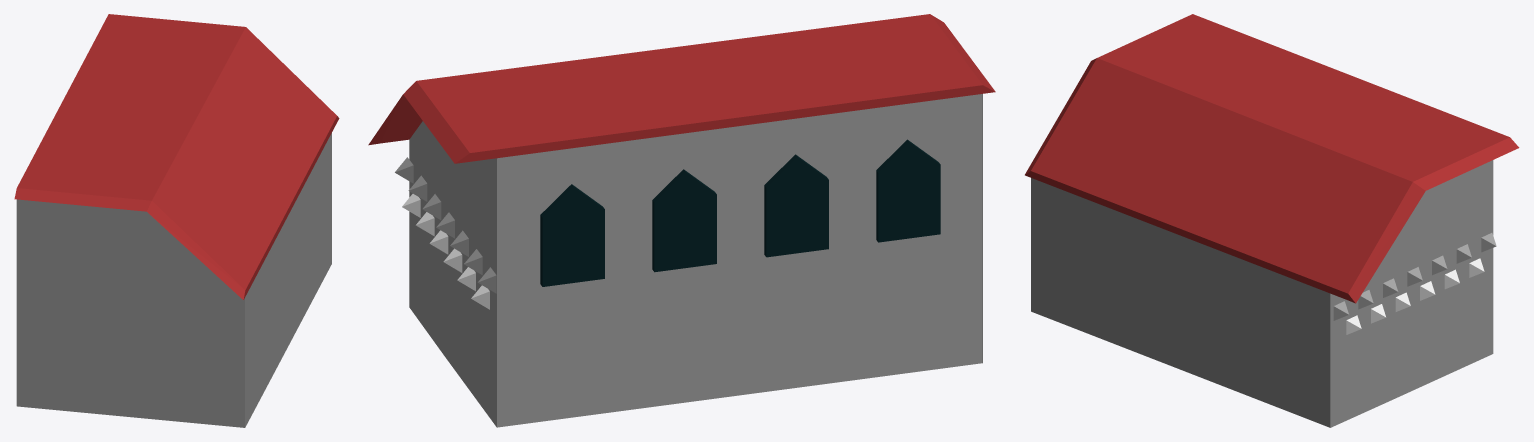
The model's file is HOUSE 1.fbx.
The picture shows the model from 3 angles, left to right: view 1: azimuth 30°, elevation 25°; view 2: azimuth 150°, elevation 25°; view 3: azimuth 270°, elevation 25°; orthographic projection. The views are drawn at different scales.
Visible parts, largest first — view 1: HOUSE_1; view 2: HOUSE_1; view 3: HOUSE_1.
Boxes of the visible parts, x1=… form: HOUSE_1: x1=14, y1=14, x2=339, y2=427; HOUSE_1: x1=368, y1=14, x2=995, y2=427; HOUSE_1: x1=1025, y1=14, x2=1519, y2=427.
Size of the model in its own units: 720 by 368 by 739.
1 material, 1 textured.
